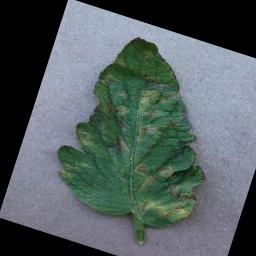Leaf_Mold: (132, 188, 196, 234), (131, 80, 182, 130), (150, 161, 205, 204), (94, 98, 135, 133), (126, 159, 160, 200), (69, 124, 101, 150), (137, 69, 171, 93), (107, 130, 136, 156), (134, 120, 161, 147), (93, 66, 120, 91)
